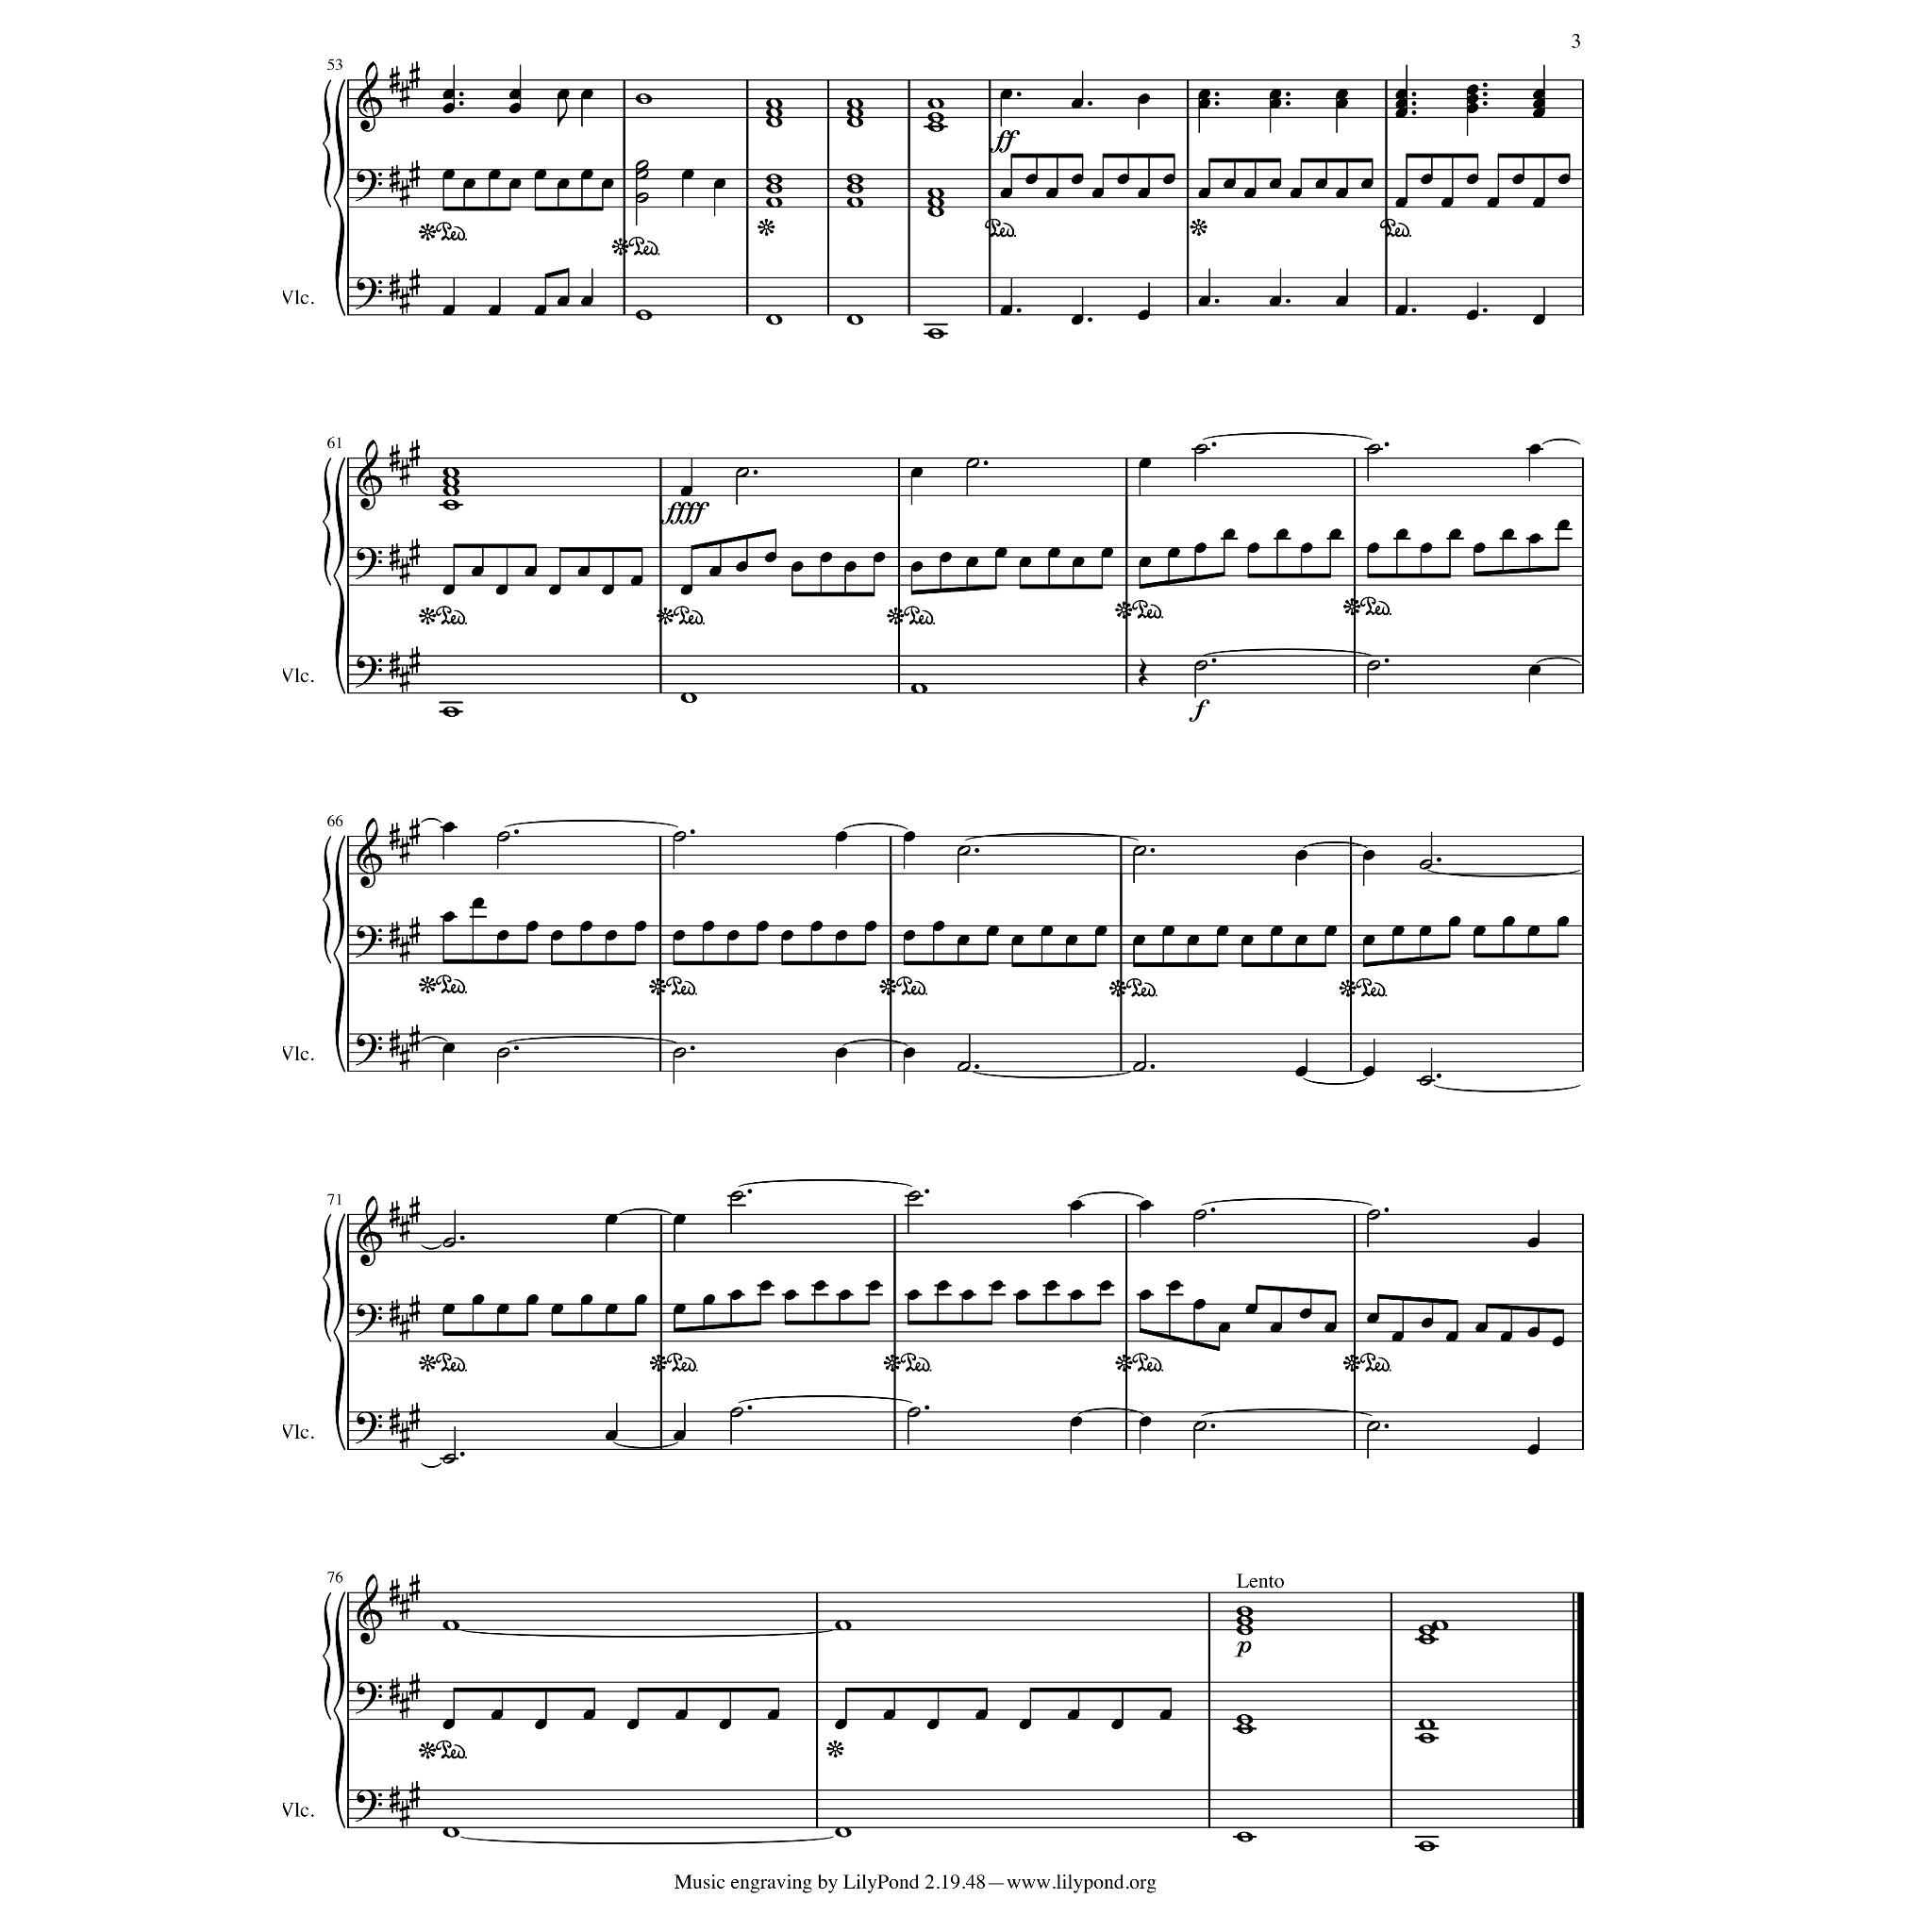brace: (333, 80, 345, 317), (333, 458, 345, 695), (333, 835, 345, 1072), (333, 1214, 345, 1451), (333, 1592, 345, 1829), (322, 835, 331, 964), (322, 1214, 331, 1343), (322, 1592, 331, 1721), (322, 80, 331, 207), (322, 458, 331, 586)
fClef: (354, 276, 382, 310), (354, 655, 382, 688), (354, 1033, 382, 1067), (354, 1412, 382, 1445), (354, 1789, 382, 1822), (354, 1681, 382, 1714), (354, 170, 382, 202), (354, 548, 382, 580), (354, 925, 382, 957), (354, 1304, 382, 1336)
flag8thDown: (557, 99, 566, 127)
gClef: (356, 1573, 382, 1645), (356, 62, 382, 133), (356, 439, 382, 510), (356, 817, 382, 888), (356, 1196, 382, 1267)
noteheadBlack: (1290, 188, 1302, 200), (1244, 188, 1256, 200), (1269, 97, 1281, 110), (1269, 88, 1281, 101), (1092, 188, 1104, 200), (1024, 173, 1037, 186), (1046, 188, 1058, 200), (1070, 97, 1083, 110), (1070, 173, 1083, 186), (1162, 173, 1175, 186), (1198, 97, 1210, 110), (1198, 88, 1210, 101), (1198, 188, 1210, 200), (1116, 173, 1129, 186), (1138, 188, 1150, 200), (1532, 97, 1545, 110), (1511, 173, 1523, 186), (1532, 88, 1545, 101), (1532, 196, 1545, 209), (1486, 196, 1499, 209), (1559, 173, 1571, 186), (1394, 196, 1407, 209), (1394, 97, 1407, 110), (1394, 88, 1407, 101), (1394, 304, 1407, 317), (1336, 97, 1348, 110), (1336, 88, 1348, 101), (1336, 188, 1348, 200), (1421, 173, 1433, 186), (1440, 196, 1453, 209), (1465, 103, 1477, 115), (1465, 83, 1477, 96), (1465, 173, 1477, 186), (580, 88, 593, 101), (580, 168, 593, 180), (557, 88, 570, 101), (681, 168, 694, 180), (442, 103, 455, 115), (442, 88, 455, 101), (442, 168, 455, 180), (442, 304, 455, 317), (510, 103, 522, 115), (510, 88, 522, 101), (488, 168, 501, 180), (488, 304, 501, 317), (1000, 88, 1012, 101), (1000, 188, 1012, 200), (1000, 304, 1012, 317), (1047, 547, 1060, 559), (1100, 547, 1113, 559), (1168, 547, 1180, 559), (1557, 518, 1569, 531), (1529, 663, 1541, 676), (1529, 533, 1541, 545), (909, 561, 922, 573), (994, 547, 1007, 559), (791, 561, 803, 573), (736, 561, 748, 573), (844, 561, 856, 573), (1295, 849, 1307, 862), (1362, 849, 1375, 862), (580, 920, 593, 932), (525, 920, 538, 932), (633, 920, 646, 932), (442, 821, 455, 833), (442, 1042, 455, 1054), (865, 920, 878, 932), (932, 920, 945, 932), (755, 920, 768, 932), (702, 920, 715, 932), (810, 920, 823, 932), (1069, 1415, 1081, 1428), (1069, 1200, 1081, 1212), (1138, 1415, 1150, 1428), (1138, 1200, 1150, 1212), (1527, 1444, 1539, 1456), (1421, 1316, 1433, 1329), (1391, 1330, 1403, 1343), (1445, 1330, 1458, 1343), (605, 1214, 617, 1226), (605, 1430, 617, 1442), (672, 1214, 685, 1226), (672, 1430, 685, 1442), (1111, 1718, 1123, 1730), (1019, 1718, 1031, 1730), (1067, 1709, 1079, 1721), (975, 1709, 987, 1721), (1159, 1709, 1171, 1721), (582, 1709, 594, 1721), (534, 1718, 547, 1730), (442, 1718, 455, 1730), (626, 1718, 639, 1730), (927, 1718, 939, 1730), (883, 1709, 895, 1721), (718, 1718, 731, 1730), (768, 1709, 780, 1721), (835, 1718, 847, 1730), (1223, 179, 1235, 189), (1269, 179, 1281, 189), (1269, 295, 1281, 306), (1070, 315, 1083, 326), (1198, 295, 1210, 306), (1138, 94, 1150, 104), (1138, 310, 1150, 320), (1532, 108, 1545, 119), (1532, 315, 1545, 326), (1465, 310, 1477, 320), (1361, 179, 1373, 189), (1394, 108, 1407, 119), (1315, 179, 1327, 189), (1336, 295, 1348, 306), (1465, 94, 1477, 104), (580, 295, 593, 306), (557, 179, 570, 189), (557, 295, 570, 306), (602, 179, 614, 189), (534, 304, 545, 317), (510, 179, 522, 189), (534, 168, 545, 180), (713, 179, 725, 189), (1223, 529, 1235, 540), (1194, 543, 1207, 554), (1329, 529, 1341, 540), (1300, 543, 1313, 554), (1276, 529, 1288, 540), (1247, 543, 1260, 554), (1138, 557, 1150, 568), (1072, 557, 1085, 568), (1138, 458, 1150, 469), (1019, 557, 1031, 568), (1529, 444, 1541, 455), (1502, 529, 1514, 540), (1366, 543, 1378, 554), (1474, 543, 1486, 554), (1449, 529, 1461, 540), (1421, 543, 1433, 554), (1396, 529, 1408, 540), (577, 566, 589, 577), (602, 584, 614, 594), (630, 575, 642, 586), (548, 584, 561, 594), (524, 566, 536, 577), (679, 584, 692, 594), (679, 487, 692, 497), (495, 584, 508, 594), (471, 566, 483, 577), (442, 584, 455, 594), (909, 467, 922, 478), (872, 552, 885, 563), (966, 557, 978, 568), (939, 552, 952, 563), (764, 552, 777, 563), (709, 566, 722, 577), (819, 552, 832, 563), (1240, 934, 1253, 945), (1215, 925, 1228, 936), (1162, 925, 1175, 936), (1323, 925, 1336, 936), (1270, 925, 1283, 936), (1295, 1067, 1307, 1077), (1295, 934, 1307, 945), (1010, 934, 1023, 945), (1132, 934, 1145, 945), (1095, 925, 1108, 936), (1065, 934, 1077, 945), (1040, 925, 1053, 936), (985, 925, 998, 936), (1502, 916, 1514, 927), (1527, 925, 1539, 936), (1362, 934, 1375, 945), (1362, 1067, 1375, 1077), (1449, 916, 1461, 927), (1474, 925, 1486, 936), (1392, 925, 1405, 936), (1419, 925, 1431, 936), (550, 931, 563, 941), (672, 931, 685, 941), (471, 897, 483, 908), (497, 931, 510, 941), (442, 911, 455, 922), (957, 934, 970, 945), (780, 931, 793, 941), (727, 931, 740, 941), (835, 1047, 847, 1058), (835, 832, 847, 842), (835, 931, 847, 941), (1192, 1299, 1205, 1309), (1168, 1281, 1180, 1292), (1270, 1322, 1283, 1332), (1299, 1307, 1311, 1318), (1323, 1322, 1336, 1332), (1217, 1322, 1230, 1332), (1099, 1281, 1111, 1292), (1069, 1290, 1081, 1300), (1016, 1290, 1028, 1300), (1138, 1290, 1150, 1300), (1552, 1336, 1564, 1346), (1527, 1327, 1539, 1338), (1527, 1237, 1539, 1247), (1500, 1330, 1511, 1343), (1476, 1322, 1488, 1332), (1366, 1313, 1378, 1323), (605, 1304, 617, 1315), (525, 1295, 538, 1306), (550, 1304, 563, 1315), (580, 1295, 593, 1306), (635, 1295, 648, 1306), (672, 1304, 685, 1315), (471, 1295, 483, 1306), (497, 1304, 510, 1315), (442, 1304, 455, 1315), (867, 1281, 879, 1292), (839, 1290, 851, 1300), (908, 1290, 920, 1300), (936, 1281, 948, 1292), (961, 1290, 973, 1300), (991, 1281, 1003, 1292), (759, 1281, 771, 1292), (729, 1290, 741, 1300), (702, 1295, 715, 1306), (814, 1281, 826, 1292), (784, 1290, 796, 1300), (492, 1709, 502, 1721), (676, 1709, 686, 1721), (464, 179, 474, 189), (1187, 934, 1198, 945), (1557, 916, 1568, 927), (605, 931, 616, 941), (904, 832, 915, 842), (904, 931, 915, 941), (904, 1047, 915, 1058), (1246, 1304, 1256, 1315), (1046, 1281, 1056, 1292)
noteheadHalf: (442, 1453, 456, 1465), (635, 159, 648, 172), (635, 168, 648, 180), (734, 467, 748, 478), (1132, 846, 1146, 856), (1132, 1062, 1146, 1072), (672, 832, 686, 842), (672, 1047, 686, 1058), (495, 832, 510, 842), (495, 1047, 510, 1058), (955, 846, 970, 856), (955, 1062, 970, 1072), (1366, 1421, 1380, 1431), (1366, 1210, 1380, 1221), (442, 1237, 456, 1247), (906, 1407, 920, 1417), (906, 1191, 920, 1201), (729, 1191, 743, 1201), (729, 1407, 743, 1417), (635, 193, 648, 203), (1194, 660, 1207, 671), (1194, 444, 1207, 455), (1368, 660, 1380, 671), (1368, 444, 1380, 455), (966, 458, 978, 469), (1419, 1076, 1431, 1086), (1419, 860, 1431, 870), (1194, 1421, 1207, 1431), (1194, 1210, 1207, 1221)
noteheadWhole: (764, 117, 782, 129), (764, 97, 782, 110), (764, 196, 782, 209), (764, 182, 782, 195), (764, 173, 782, 186), (846, 97, 863, 110), (846, 196, 863, 209), (846, 117, 863, 129), (846, 182, 863, 195), (846, 173, 863, 186), (679, 692, 697, 704), (442, 706, 460, 718), (442, 476, 460, 488), (1235, 1723, 1253, 1736), (1235, 1624, 1253, 1637), (1417, 1840, 1435, 1852), (1417, 1718, 1435, 1730), (1417, 1624, 1435, 1637), (442, 1826, 460, 1838), (833, 1826, 851, 1838), (927, 188, 943, 200), (927, 196, 943, 209), (927, 111, 943, 124), (927, 97, 943, 110), (927, 205, 943, 218), (764, 108, 782, 119), (764, 315, 782, 326), (846, 108, 863, 119), (846, 315, 863, 326), (442, 467, 460, 478), (442, 487, 460, 497), (442, 499, 460, 510), (1235, 1606, 1253, 1617), (1235, 1714, 1253, 1725), (1235, 1831, 1253, 1842), (1235, 1615, 1253, 1626), (1417, 1732, 1435, 1743), (1417, 1635, 1435, 1645), (442, 1621, 460, 1631), (833, 1621, 851, 1631), (635, 94, 651, 104), (635, 310, 651, 320), (927, 329, 943, 340), (927, 122, 943, 133), (911, 683, 927, 694), (1431, 1621, 1447, 1631)
restQuarter: (1138, 658, 1148, 686)
